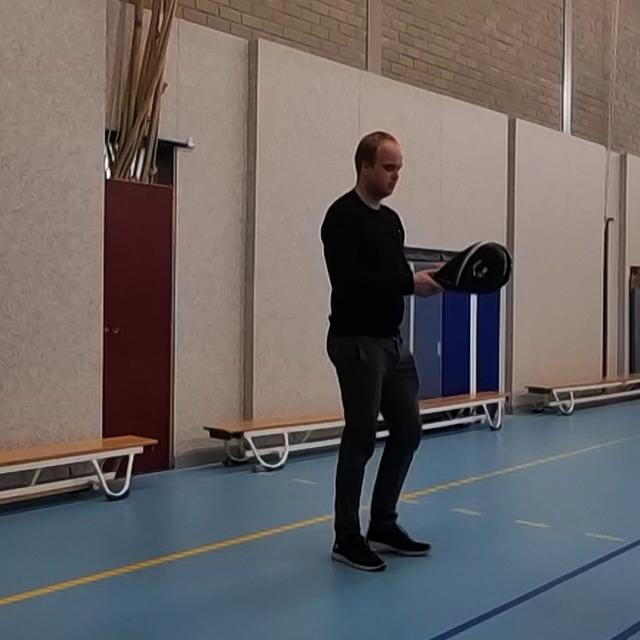paddle: (423, 241, 513, 293)
